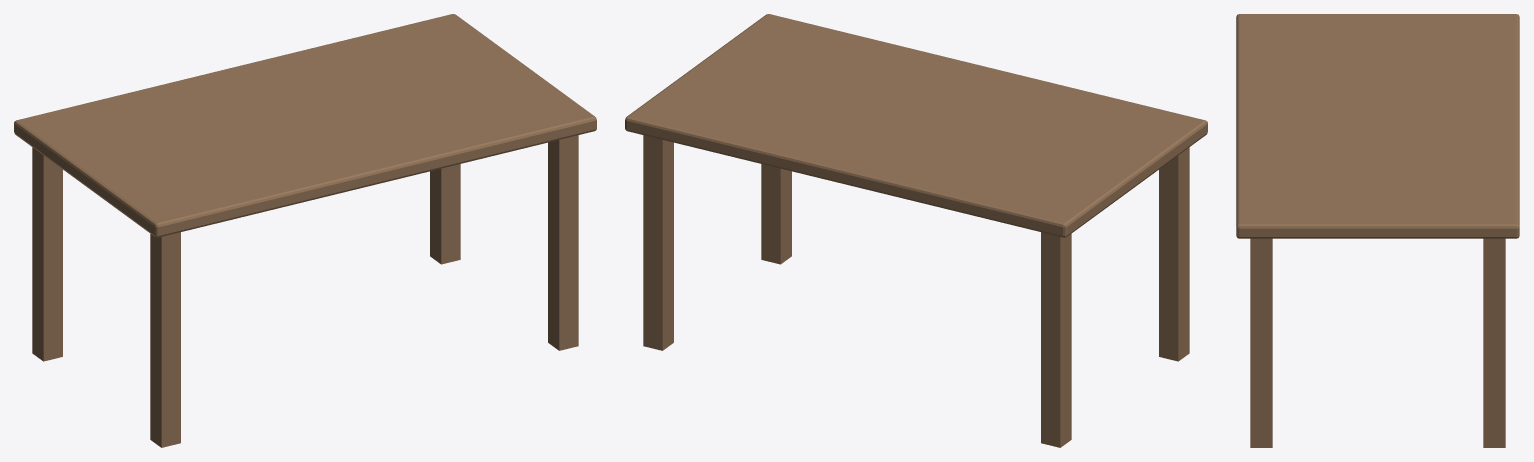
Rendered from Table.glb.
3 renders of one model, left to right at view 1: azimuth 30°, elevation 25°; view 2: azimuth 150°, elevation 25°; view 3: azimuth 270°, elevation 25°, orthographic.
Parts seen in each view (by area): view 1: Table; view 2: Table; view 3: Table.
Boxes of the visible parts, x1=… form: Table: x1=14, y1=14, x2=596, y2=447; Table: x1=625, y1=14, x2=1207, y2=447; Table: x1=1236, y1=14, x2=1519, y2=447.
Bounding box in the file's own units: 1.6 × 0.8 × 0.9.
